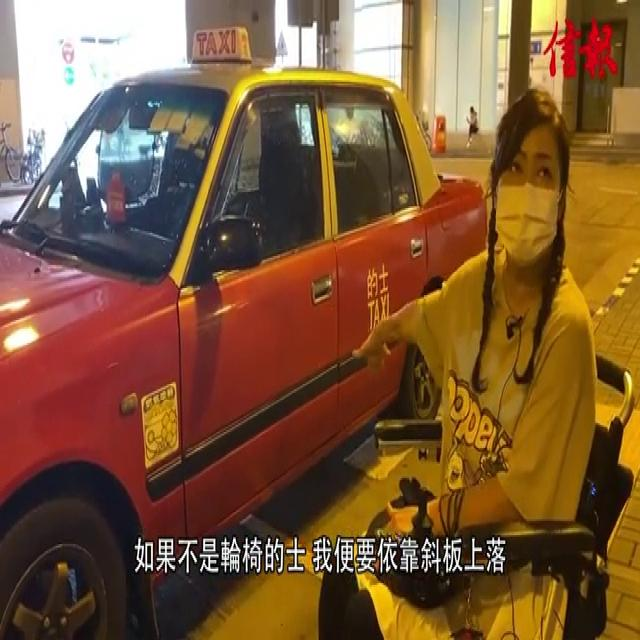wheelchairs: (368, 341, 640, 640)
